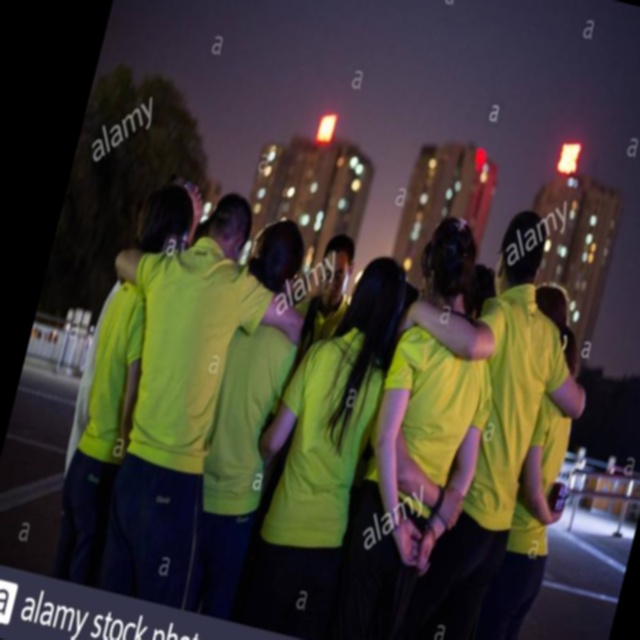Sin_Casco_Mascarrilla: (341, 251, 413, 355), (202, 187, 258, 265)
